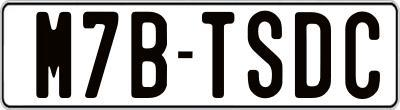7: (82, 11, 122, 100)
B: (128, 9, 164, 97)
C: (342, 11, 379, 102)
D: (293, 9, 329, 99)
M: (33, 12, 74, 102)
S: (245, 11, 284, 98)
T: (201, 9, 236, 100)
